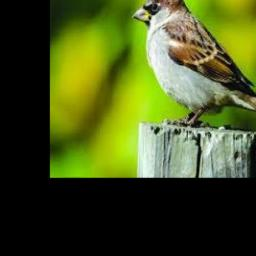Sparrow: (132, 0, 256, 132)
